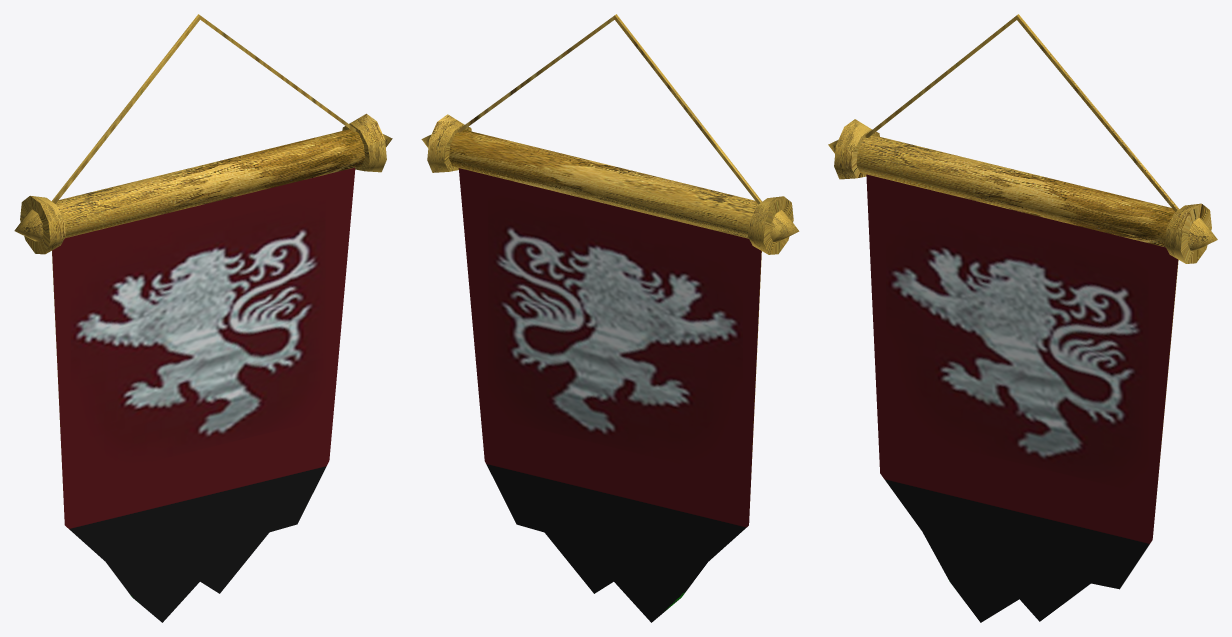
Rendered from Flag.FBX.
3 views of the same model, side by side, from view 1: azimuth 30°, elevation 25°; view 2: azimuth 150°, elevation 25°; view 3: azimuth 330°, elevation 25° (orthographic). The views are drawn at different scales.
Visible parts, largest first — view 1: Flag; view 2: Flag; view 3: Flag.
Boxes of the visible parts, x1,y1,x2,y2 form: Flag: (14,14,392,622); Flag: (421,14,799,622); Flag: (828,14,1217,622).
Size of the model in its own units: 124 by 188 by 17.21.
